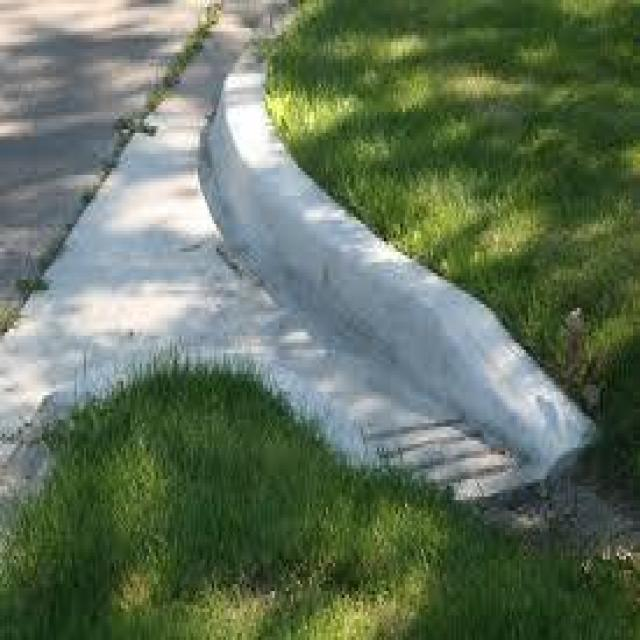bump: (185, 101, 578, 456)
